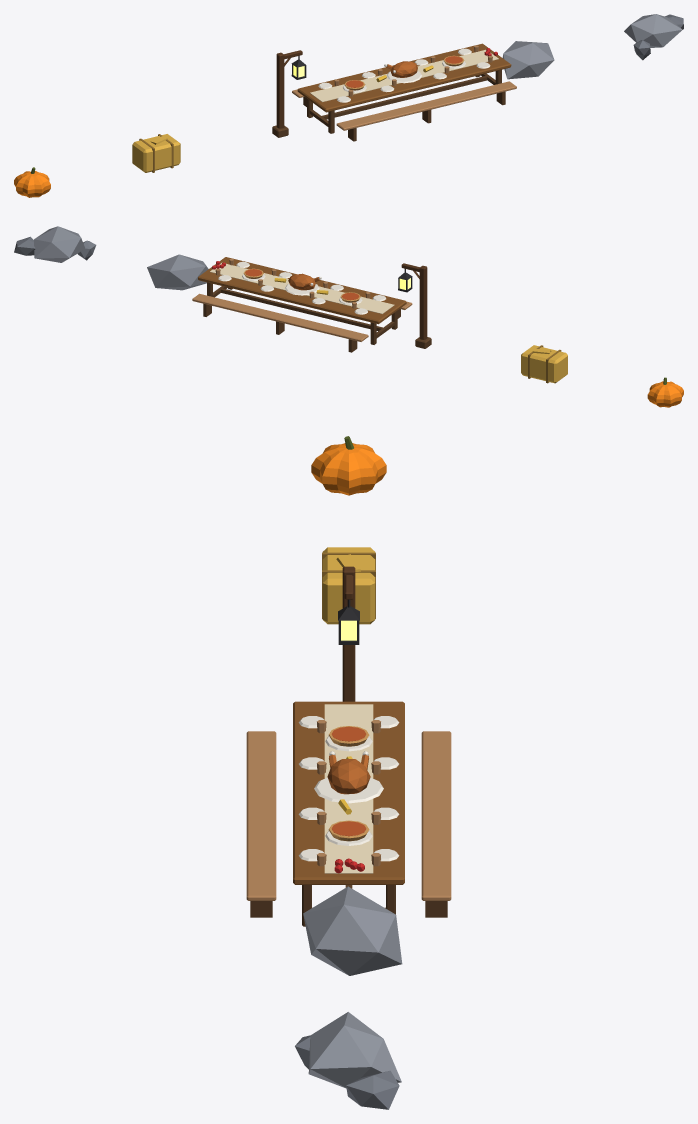
The model's file is props.glb.
The picture shows the model from 3 angles, top to bottom: view 1: azimuth 30°, elevation 25°; view 2: azimuth 150°, elevation 25°; view 3: azimuth 270°, elevation 25°; orthographic projection. The views are drawn at different scales.
Visible parts, largest first — view 1: feast_table, rock_b, rock_a, haybale, lantern_post, pumpkin; view 2: feast_table, rock_b, rock_a, haybale, lantern_post, pumpkin; view 3: feast_table, rock_a, rock_b, haybale, pumpkin, lantern_post.
Part boxes in pixels (left/top/right/bottom): feast_table: left=292, top=43, right=516, bottom=141; rock_b: left=624, top=14, right=683, bottom=60; rock_a: left=502, top=41, right=554, bottom=79; haybale: left=132, top=134, right=180, bottom=172; lantern_post: left=272, top=50, right=306, bottom=137; pumpkin: left=14, top=167, right=50, bottom=197; feast_table: left=192, top=257, right=412, bottom=352; rock_b: left=14, top=226, right=96, bottom=262; rock_a: left=147, top=254, right=208, bottom=290; haybale: left=521, top=345, right=567, bottom=383; lantern_post: left=398, top=263, right=431, bottom=348; pumpkin: left=647, top=377, right=683, bottom=407; feast_table: left=246, top=701, right=451, bottom=926; rock_a: left=303, top=886, right=402, bottom=975; rock_b: left=295, top=1012, right=401, bottom=1109; haybale: left=322, top=547, right=375, bottom=624; pumpkin: left=311, top=436, right=386, bottom=495; lantern_post: left=338, top=566, right=359, bottom=701.
Size of the model in its own units: 21.75 by 2.66 by 2.92.
